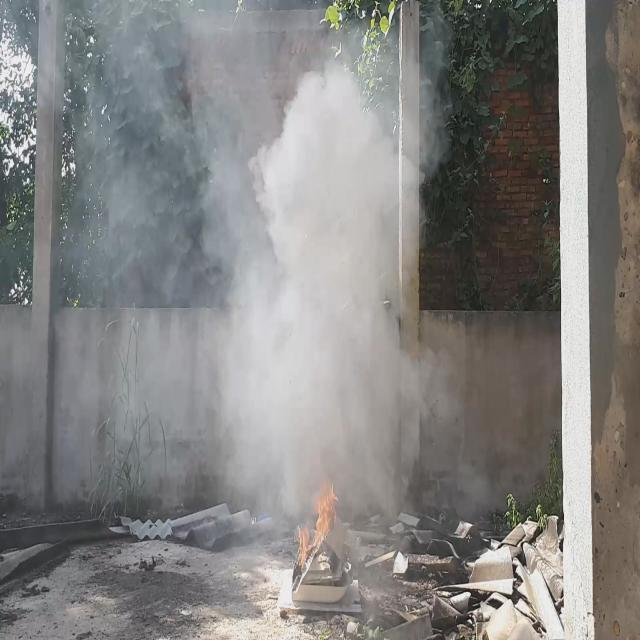Fire: (296, 482, 336, 569)
Smoke: (0, 0, 428, 557)
